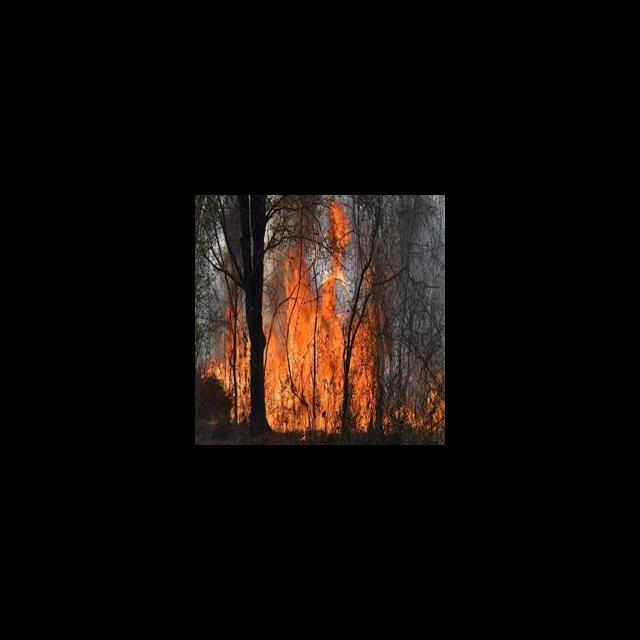Fire: (267, 198, 342, 436), (351, 270, 388, 436), (207, 306, 250, 418), (393, 372, 444, 431)
